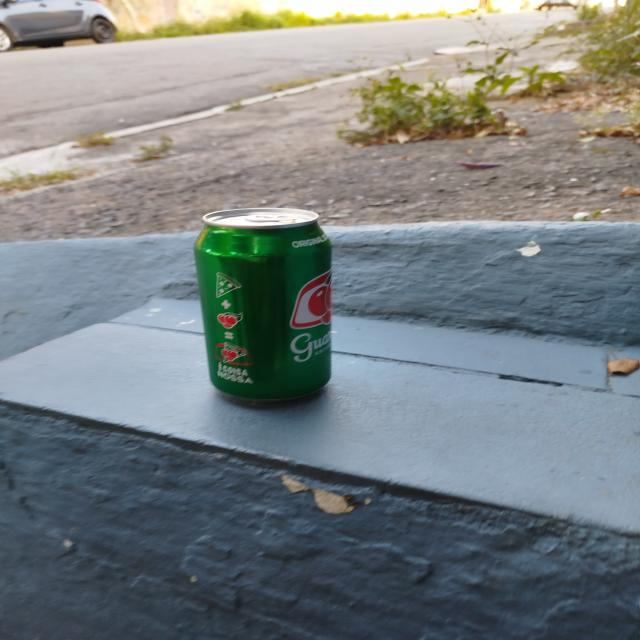Guarana: (192, 209, 338, 398)
